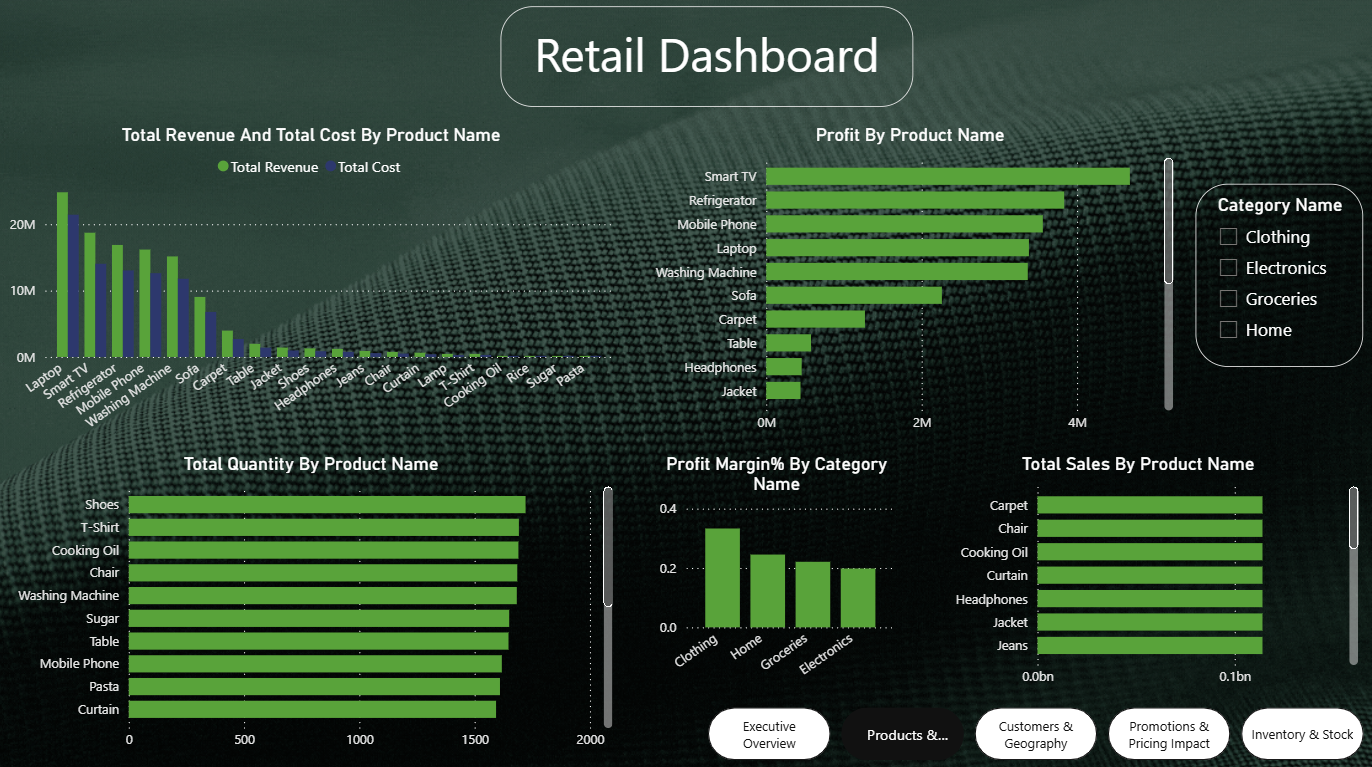

This screenshot's page, from the dashboard's own definition file:
{"tool":"powerbi","page":{"name":"Products & Profit","canvas":[1280,720],"ordinal":1},"visuals":[{"type":"textbox","box":[468,10,384.2,93.3],"z":0},{"type":"pageNavigator","box":[660.8,662.5,610,49.2],"z":1000},{"type":"clusteredBarChart","title":"Total Quantity By Product Name","fields":{"Category":["Products.product_name"],"Y":["Measure Table.Total Quantity"]},"box":[6,426.1,571,285.5],"z":2000},{"type":"barChart","title":"Profit By Product Name","fields":{"Category":["Products.product_name"],"Y":["Measure Table.Profit"]},"box":[598.6,119.9,499.4,295.8],"z":3000},{"type":"clusteredColumnChart","title":"Total Revenue  And  Total Cost  By  Product Name","fields":{"Y":["Measure Table.Total Revenue","Measure Table.Total Cost"],"Category":["Products.product_name"]},"box":[6,119.9,571,295.8],"z":4000},{"type":"columnChart","title":"Profit Margin% By Category Name","fields":{"Category":["Categories.category_name"],"Y":["Measure Table.Profit Margin %"]},"box":[609.8,426.1,230.3,226.8],"z":5000},{"type":"clusteredBarChart","title":"Total Sales By Product Name","fields":{"Category":["Products.product_name"],"Y":["Measure Table.Total Sales"]},"box":[851.3,426.1,419.2,226.8],"z":6000},{"type":"slicer","title":"Category Name","fields":{"Values":["Categories.category_name"]},"box":[1114.4,176,156.1,170.8],"z":7000}]}

Visuals, with their boxes in screenshot pixels (x1, y1, x2, y2), scaled from the page's 1280x720 canvas onto the 1372x767 screenshot:
textbox: crop(502, 11, 913, 110)
pageNavigator: crop(708, 706, 1362, 758)
"Total Quantity By Product Name" clusteredBarChart: crop(6, 454, 618, 758)
"Profit By Product Name" barChart: crop(642, 128, 1177, 443)
"Total Revenue  And  Total Cost  By  Product Name" clusteredColumnChart: crop(6, 128, 618, 443)
"Profit Margin% By Category Name" columnChart: crop(654, 454, 900, 696)
"Total Sales By Product Name" clusteredBarChart: crop(912, 454, 1362, 696)
"Category Name" slicer: crop(1194, 187, 1362, 369)
